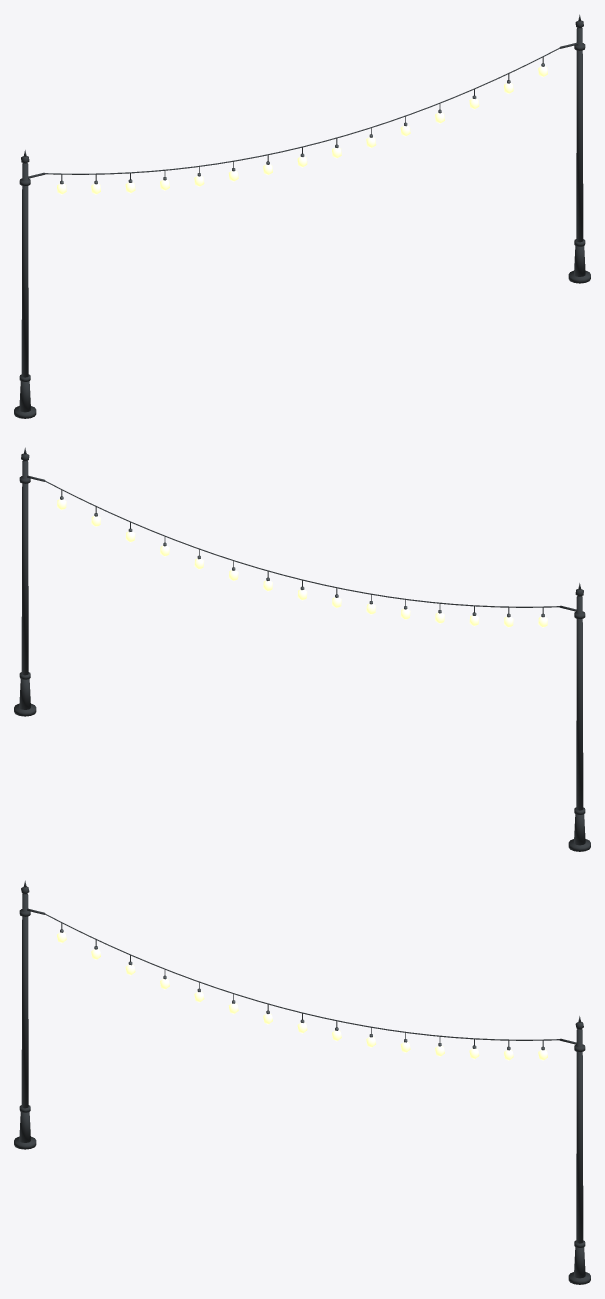
3 renders of one model, top to bottom at view 1: azimuth 30°, elevation 25°; view 2: azimuth 150°, elevation 25°; view 3: azimuth 330°, elevation 25°, orthographic.
Parts seen in each view (by area): view 1: house_paint, festoon_glass; view 2: house_paint, festoon_glass; view 3: house_paint, festoon_glass.
Boxes of the visible parts, x1,y1,x2,y2 form: house_paint: (14, 14, 590, 418); festoon_glass: (57, 66, 547, 194); house_paint: (14, 447, 590, 851); festoon_glass: (57, 499, 547, 627); house_paint: (14, 880, 590, 1284); festoon_glass: (57, 932, 547, 1060).
Bounding box in the file's own units: 8.28 × 3.65 × 0.28.
Materials: 2 (1 with a texture image).
